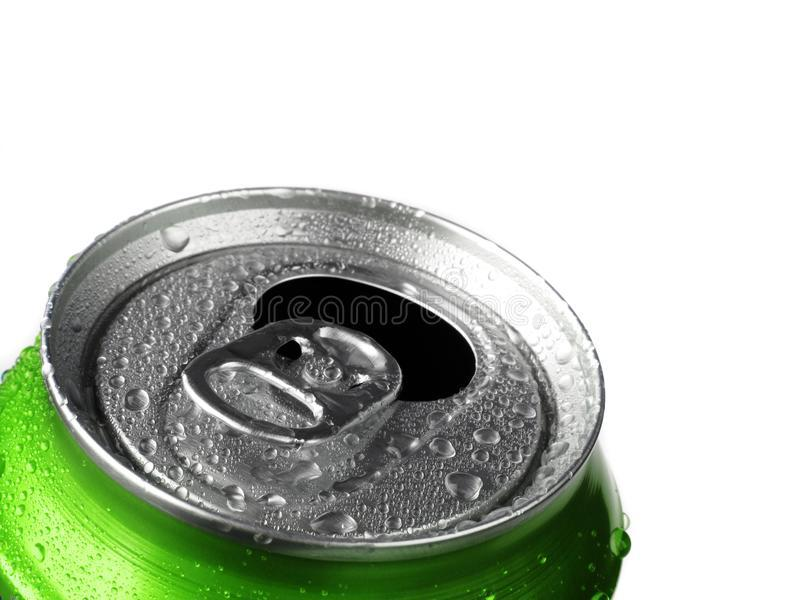can: (4, 176, 646, 600)
